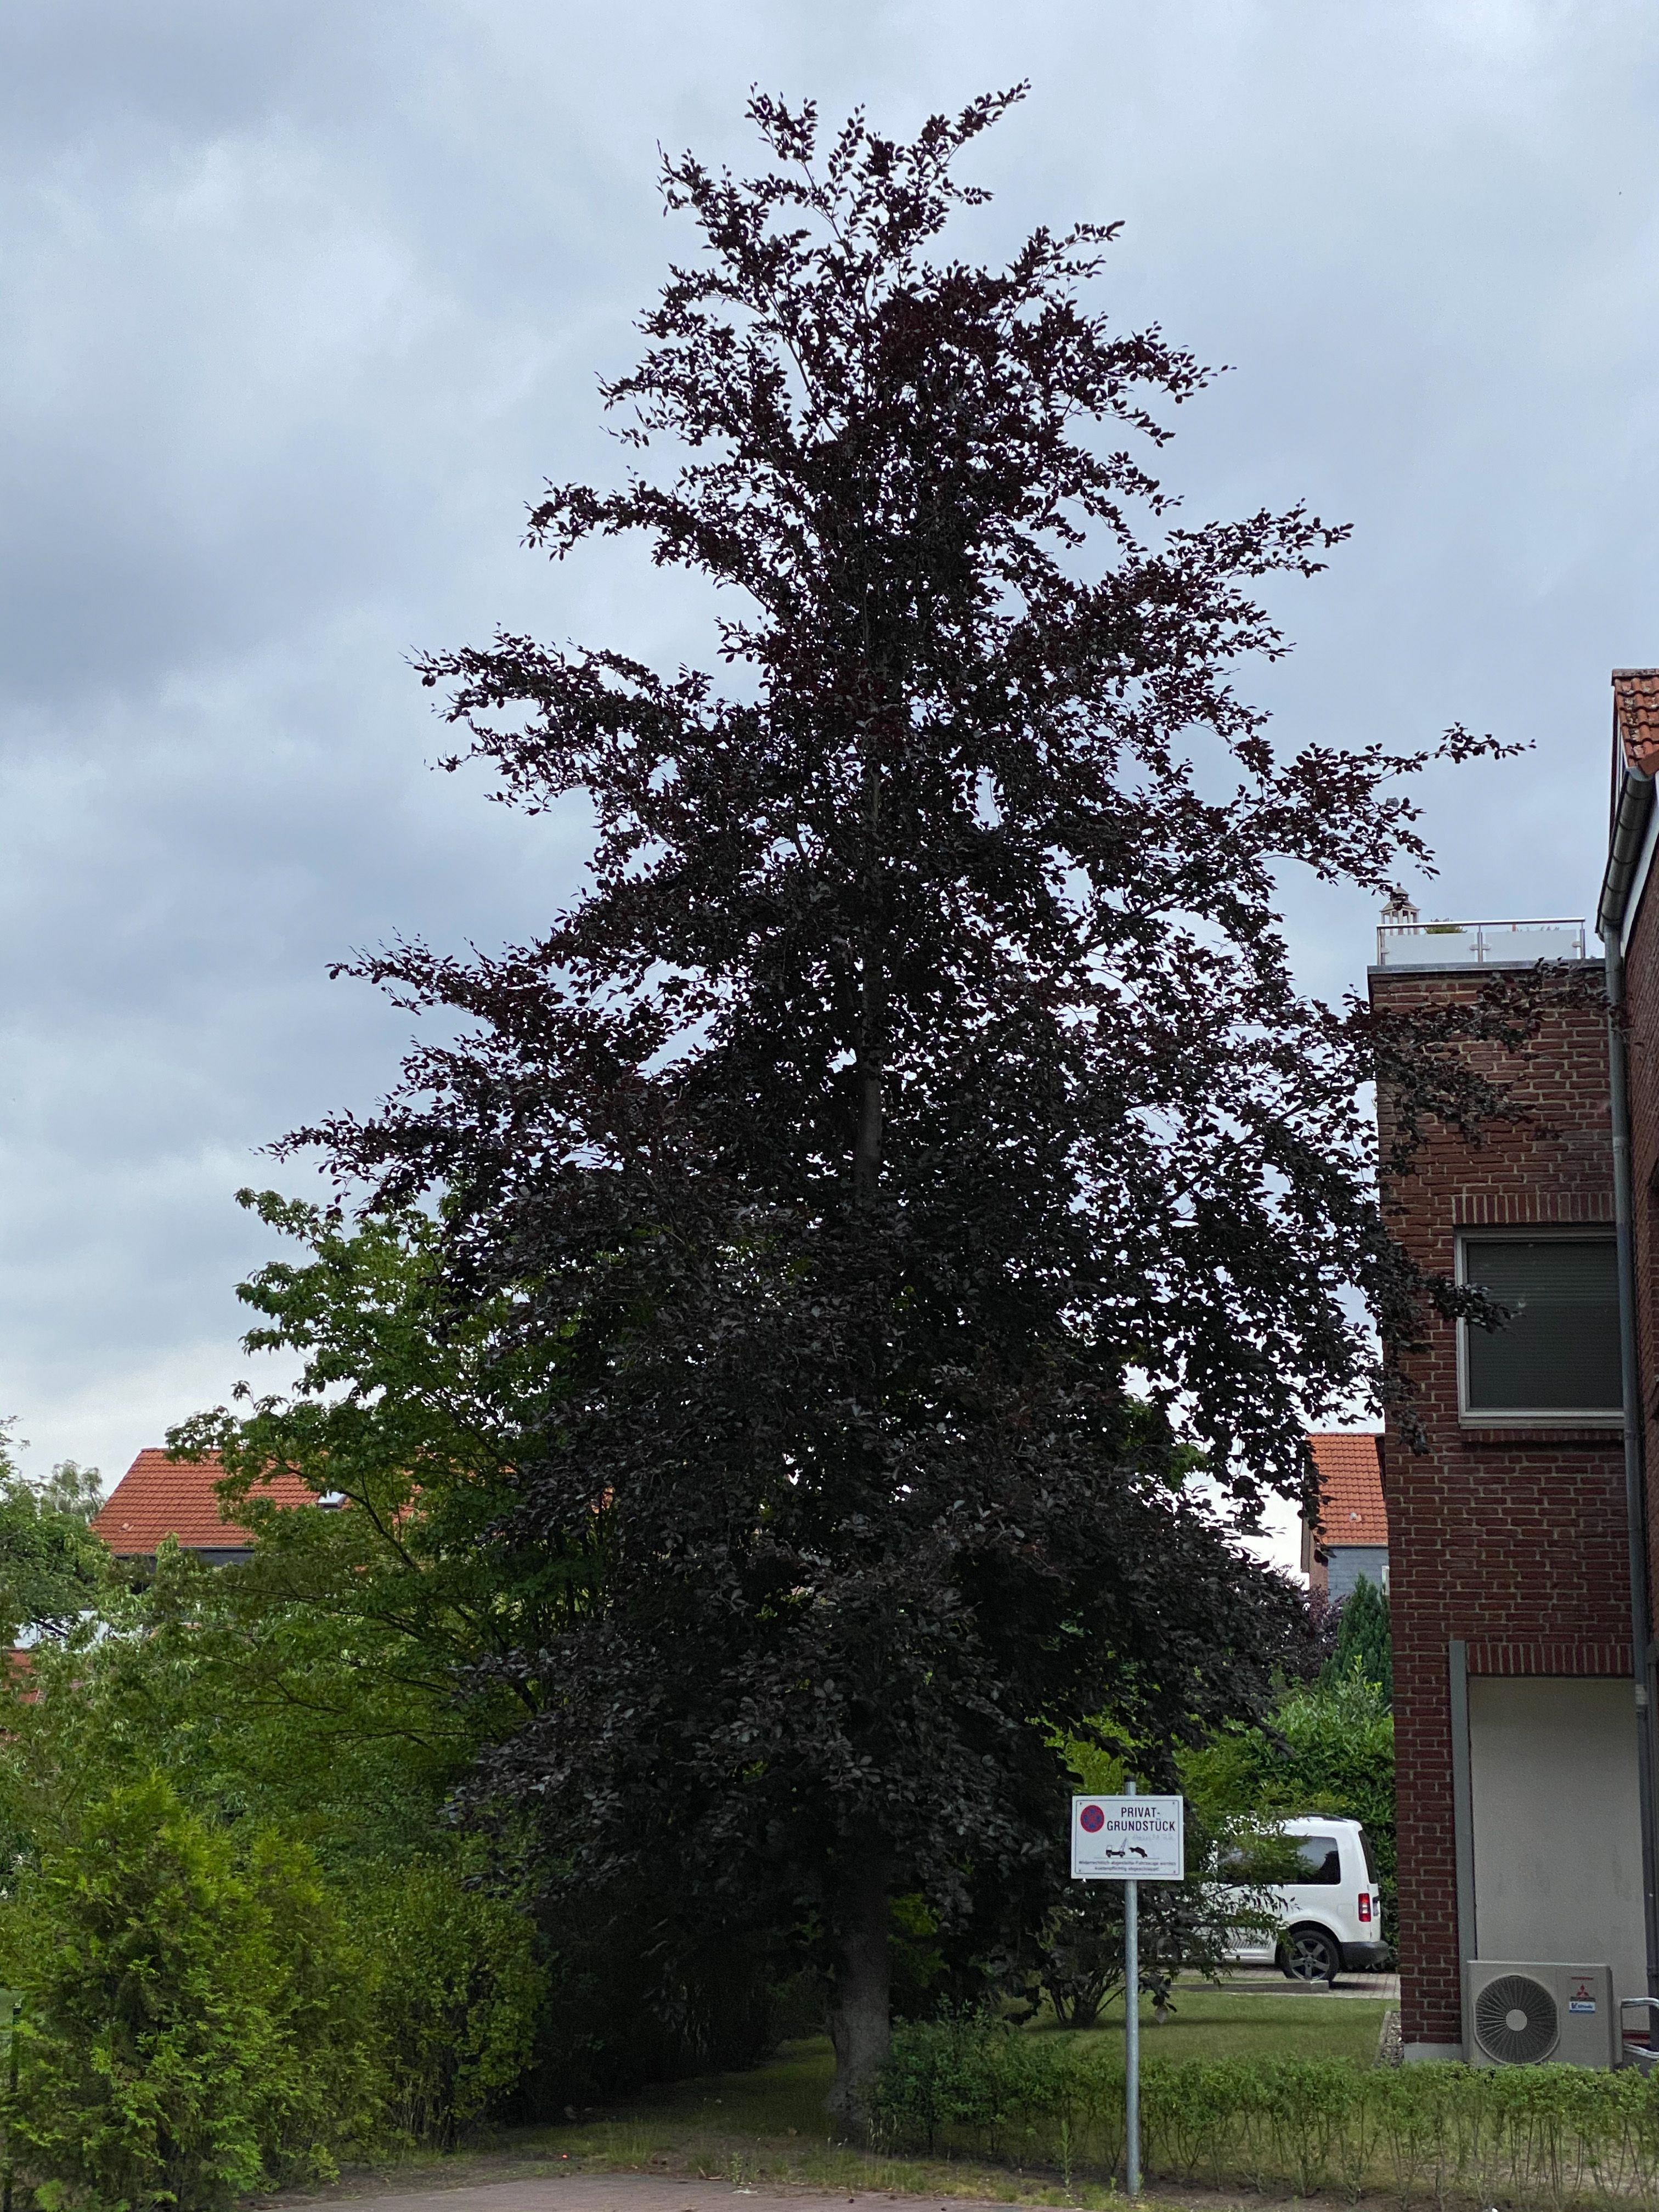tree: (251, 71, 1635, 2127)
